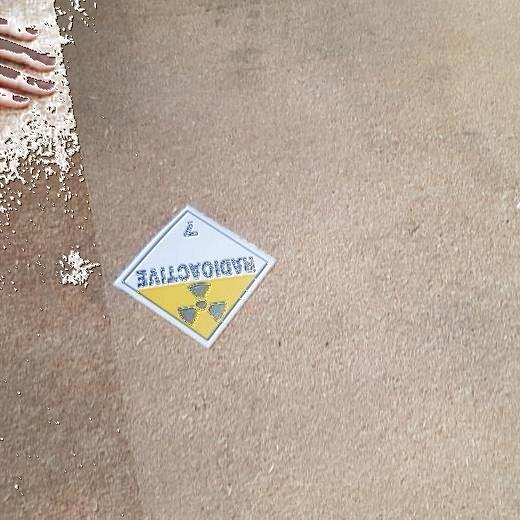radioactive: (114, 205, 282, 350)
